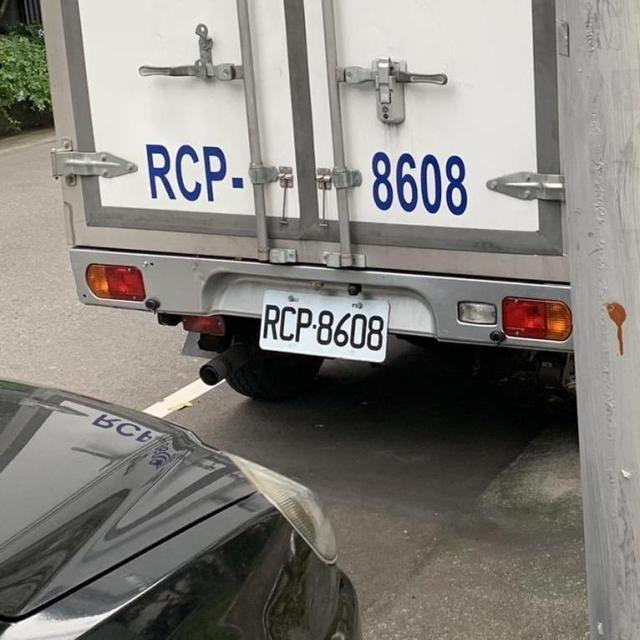W: (243, 278, 400, 368)
